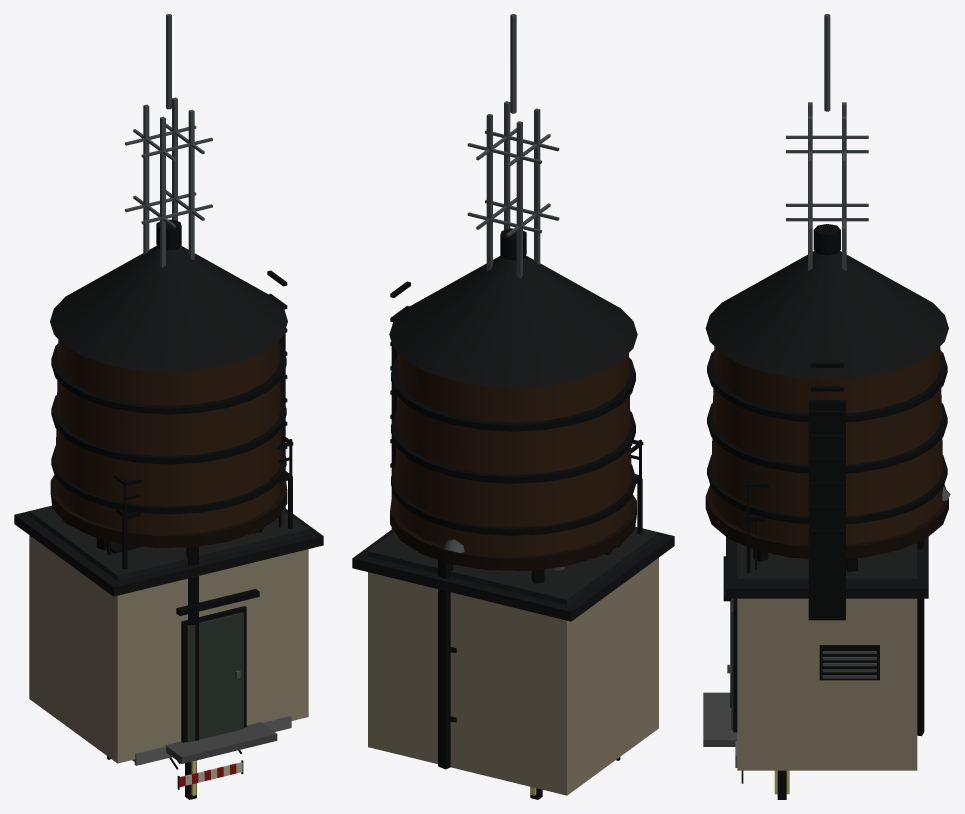
File: city_props.glb
The picture shows the model from 3 angles, left to right: view 1: azimuth 30°, elevation 25°; view 2: azimuth 150°, elevation 25°; view 3: azimuth 270°, elevation 25°; orthographic projection. The views are drawn at different scales.
Visible parts, largest first — view 1: water_tower, rooftop_shed, antenna_mast, fire_escape, awning, balcony; view 2: water_tower, rooftop_shed, antenna_mast, fire_escape; view 3: water_tower, rooftop_shed, antenna_mast, fire_escape.
Boxes of the visible parts, left/top/right/bottom form: water_tower: left=50, top=219, right=287, bottom=740; rooftop_shed: left=14, top=505, right=323, bottom=763; antenna_mast: left=125, top=14, right=212, bottom=267; fire_escape: left=105, top=434, right=293, bottom=759; awning: left=169, top=750, right=243, bottom=789; balcony: left=132, top=715, right=291, bottom=765; water_tower: left=389, top=228, right=637, bottom=769; rooftop_shed: left=352, top=526, right=674, bottom=795; antenna_mast: left=467, top=14, right=559, bottom=278; fire_escape: left=616, top=439, right=643, bottom=760; water_tower: left=705, top=224, right=950, bottom=736; rooftop_shed: left=703, top=537, right=928, bottom=770; antenna_mast: left=786, top=14, right=868, bottom=270; fire_escape: left=744, top=477, right=768, bottom=573.
Size of the model in its own units: 3.38 by 11.5 by 3.29.
